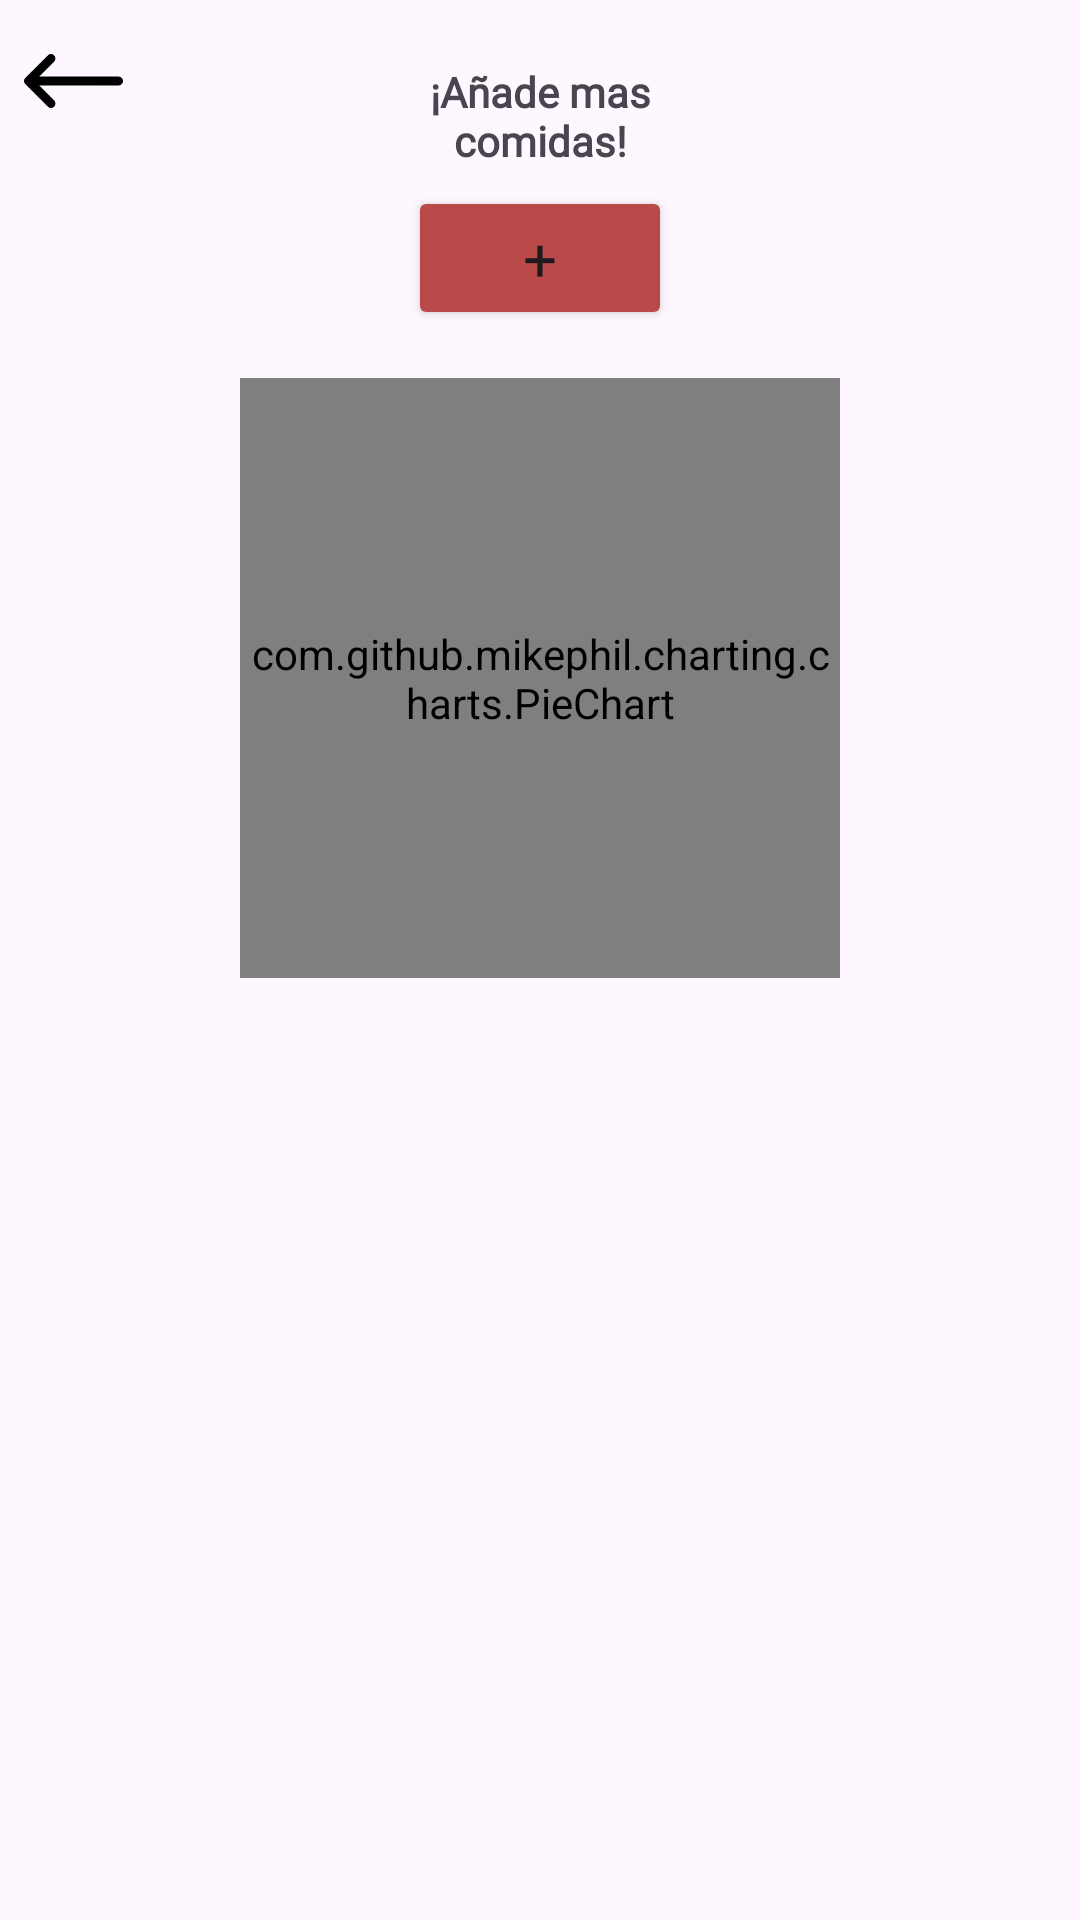

Icons on this 1080px×1920px Android screen, each with its box as bbox=[x1, y1, x2, y2]:
volver: bbox=[24, 54, 123, 108]
